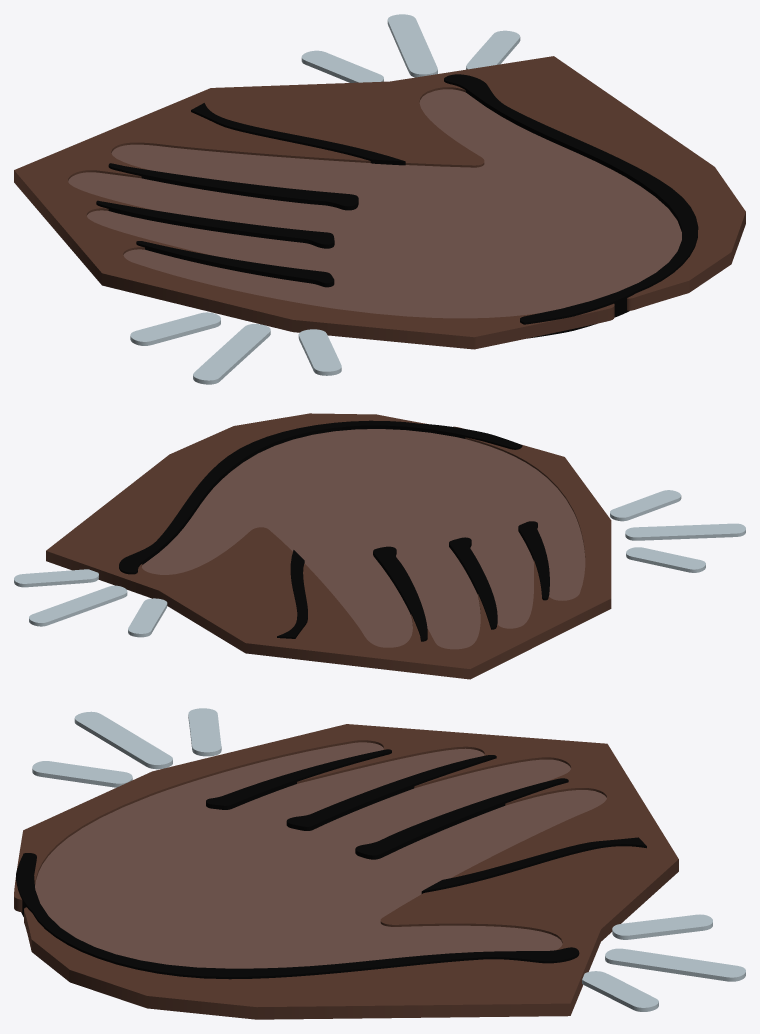
The model's file is emoji_u1f44f_1f3ff.glb.
The picture shows the model from 3 angles, top to bottom: view 1: azimuth 30°, elevation 25°; view 2: azimuth 150°, elevation 25°; view 3: azimuth 270°, elevation 25°; orthographic projection. The views are drawn at different scales.
Visible parts, largest first — view 1: emoji_u1f44f_1f3ff; view 2: emoji_u1f44f_1f3ff; view 3: emoji_u1f44f_1f3ff.
Part boxes in pixels (x1,y1,x2,y2): emoji_u1f44f_1f3ff: (14,14,745,384); emoji_u1f44f_1f3ff: (14,413,745,679); emoji_u1f44f_1f3ff: (14,708,745,1019).
Size of the model in its own units: 0.0311 by 0.0008 by 0.0318.
